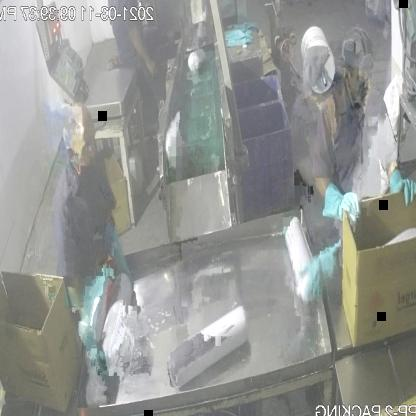no_glove: (125, 27, 162, 80)
